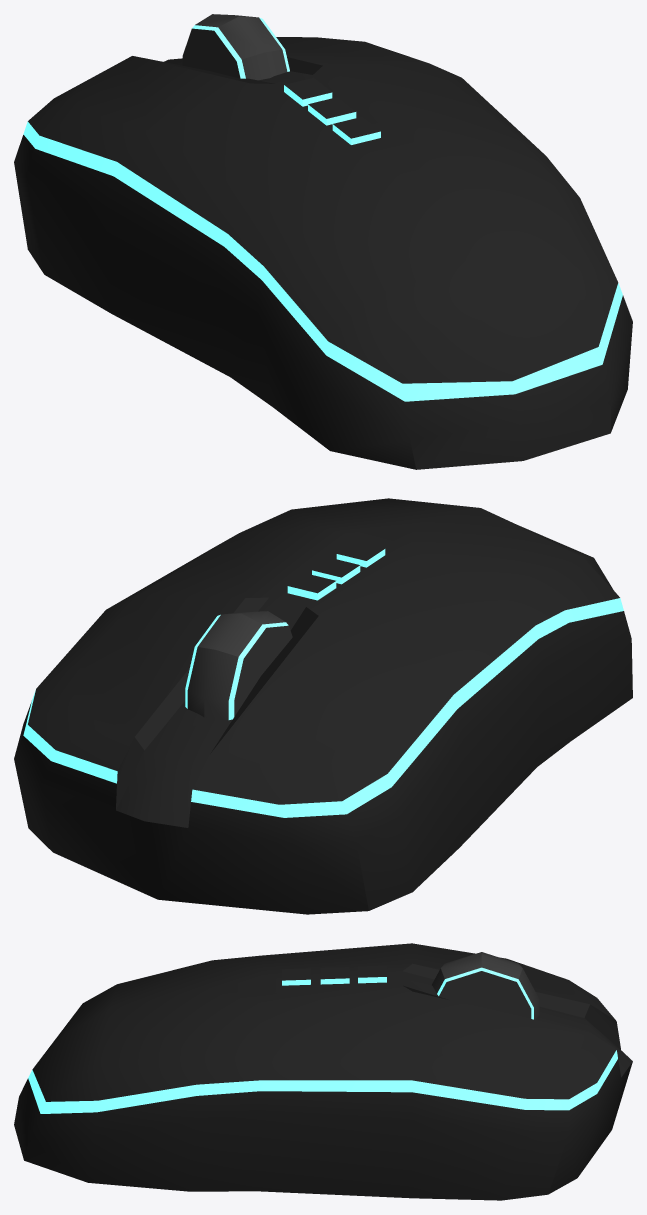
File: PC_Mouse_2.fbx
3 renders of one model, top to bottom at view 1: azimuth 30°, elevation 25°; view 2: azimuth 150°, elevation 25°; view 3: azimuth 270°, elevation 25°, orthographic. The views are drawn at different scales.
Parts seen in each view (by area): view 1: PC Mouse 2; view 2: PC Mouse 2; view 3: PC Mouse 2.
Part boxes in pixels (bbox=[...]): PC Mouse 2: bbox=[14, 14, 632, 469]; PC Mouse 2: bbox=[14, 498, 632, 914]; PC Mouse 2: bbox=[14, 943, 632, 1200].
Size of the model in its own units: 9.45 by 5.37 by 17.24.
